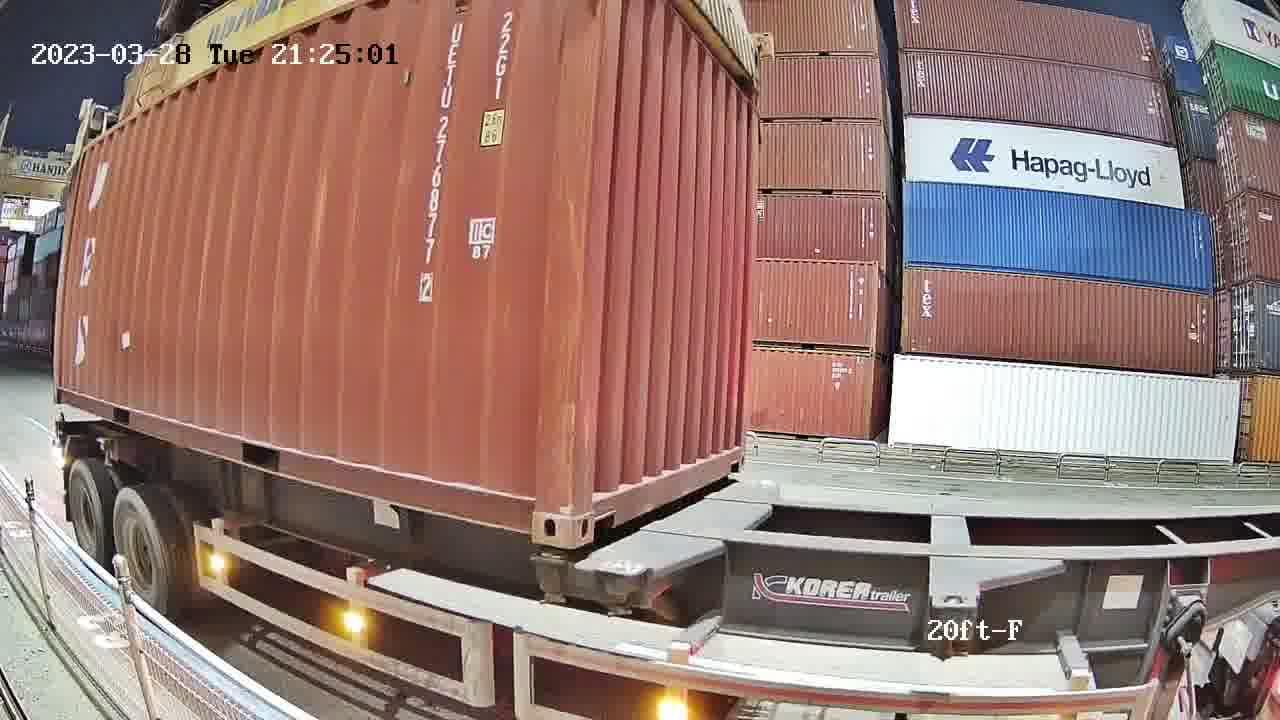Chassis: (607, 481, 775, 575)
Cone: (601, 561, 644, 618), (532, 553, 570, 606)
Hole_L: (571, 462, 624, 549)
Hole_R: (497, 469, 572, 549), (723, 431, 748, 475)
Tire: (111, 491, 170, 616), (68, 462, 107, 569)
